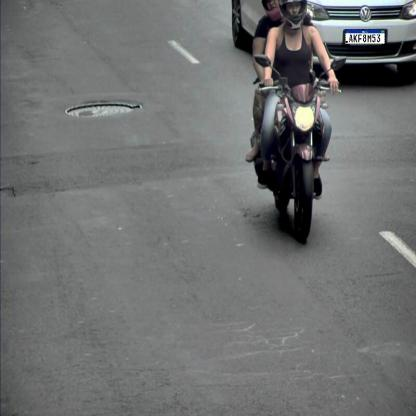PlacaM: (345, 29, 385, 44)
